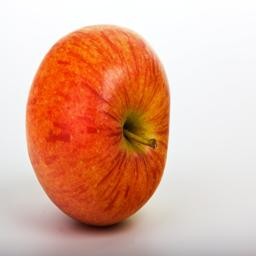Apple Semirotten: (21, 22, 170, 238)
